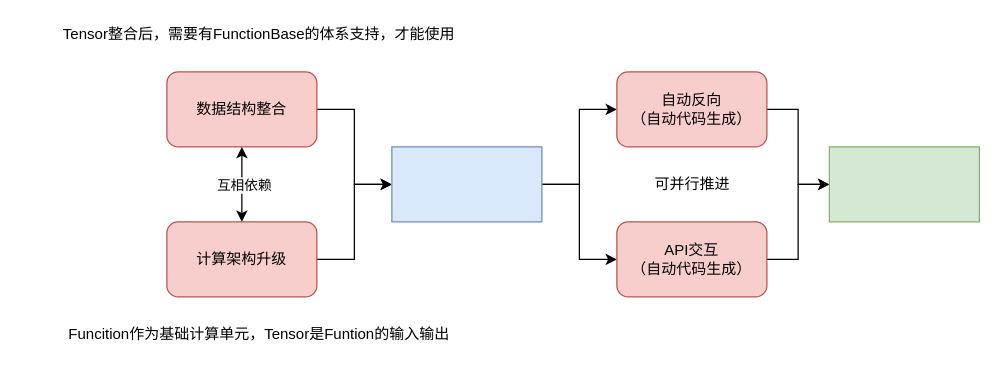
Image size: 1001x368. Some labels were removed from this diagram. Each missing label, with the centre of its shape:
全局可推广Demo: pixel 903 184
手写可执行Demo: pixel 466 184
